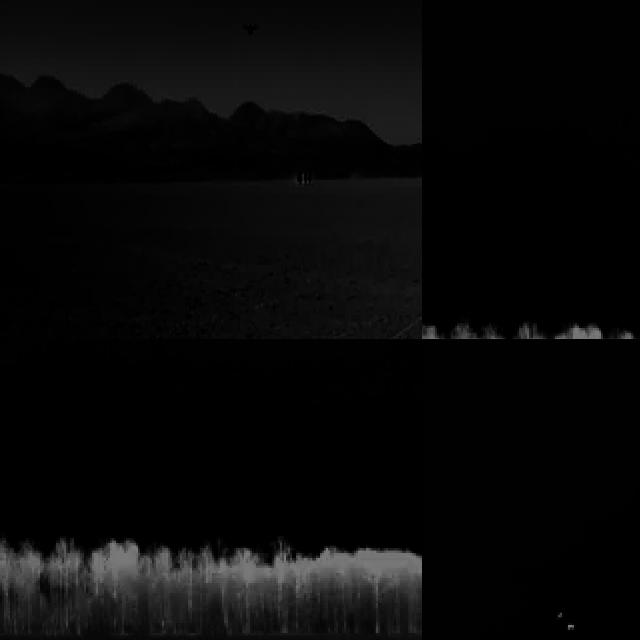0: (560, 615, 582, 640), (544, 603, 564, 625)
drone: (242, 15, 259, 47)
